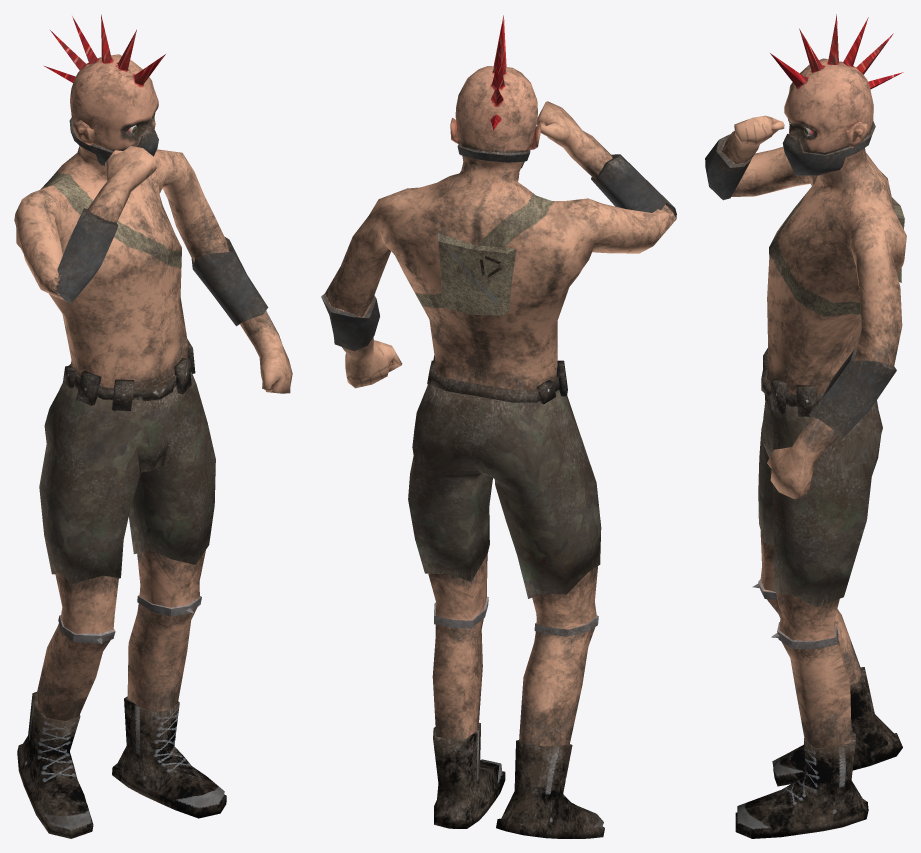
File: Anim_perder_1_npc2.0028.obj
The picture shows the model from 3 angles, left to right: view 1: azimuth 30°, elevation 25°; view 2: azimuth 150°, elevation 25°; view 3: azimuth 270°, elevation 25°; orthographic projection. The views are drawn at different scales.
Parts seen in each view (by area): view 1: polySurface1; view 2: polySurface1; view 3: polySurface1.
Part boxes in pixels (x1,y1,x2,y2): polySurface1: [14, 14, 292, 838]; polySurface1: [321, 15, 676, 838]; polySurface1: [705, 14, 906, 838].
Size of the model in its own units: 3.8 by 10.24 by 2.36.
